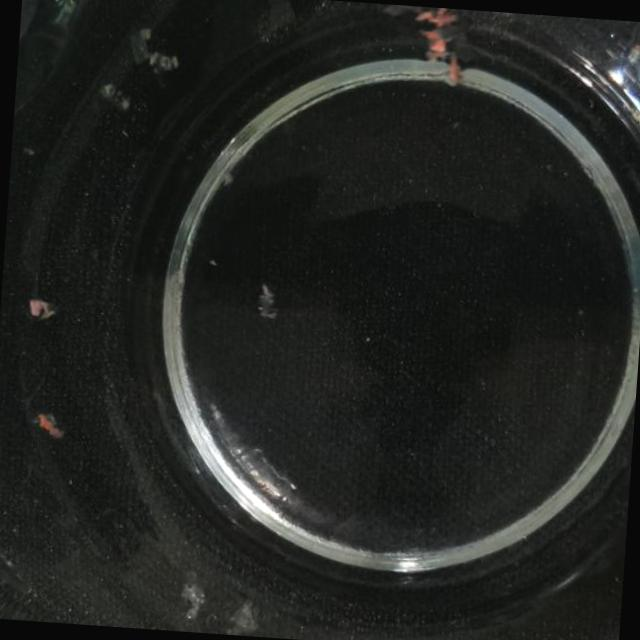fiber: (389, 4, 465, 98), (172, 572, 210, 627), (30, 401, 70, 444), (254, 278, 288, 328), (228, 600, 261, 636), (32, 294, 56, 328)
